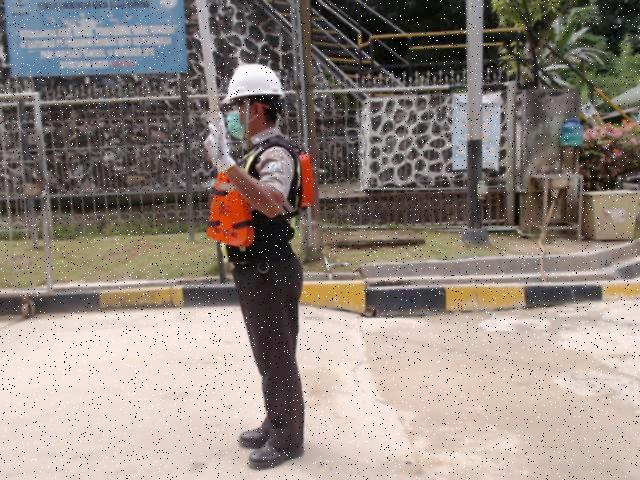glasses: (226, 100, 268, 111)
gloves: (207, 111, 236, 173)
helmet: (222, 63, 285, 103)
mask: (226, 110, 247, 140)
safety-shoes: (248, 440, 305, 471), (237, 419, 270, 447)
vest: (207, 153, 317, 247)
